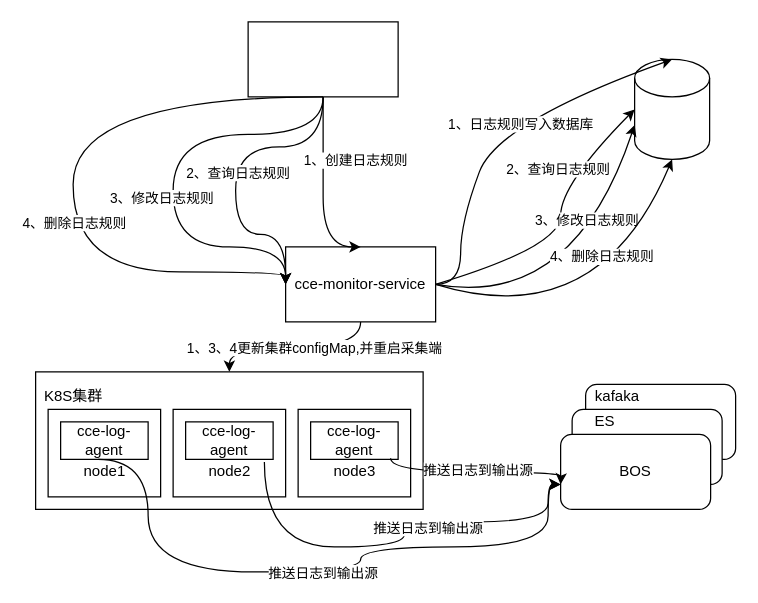
This 758x603 diagram has some shape labels left out. The shapes that lost their labels are listed below. From the top down, each one's centre as x and y in pixels, then its label:
At (x=322, y=59): "console".
At (x=671, y=108): "DB".
